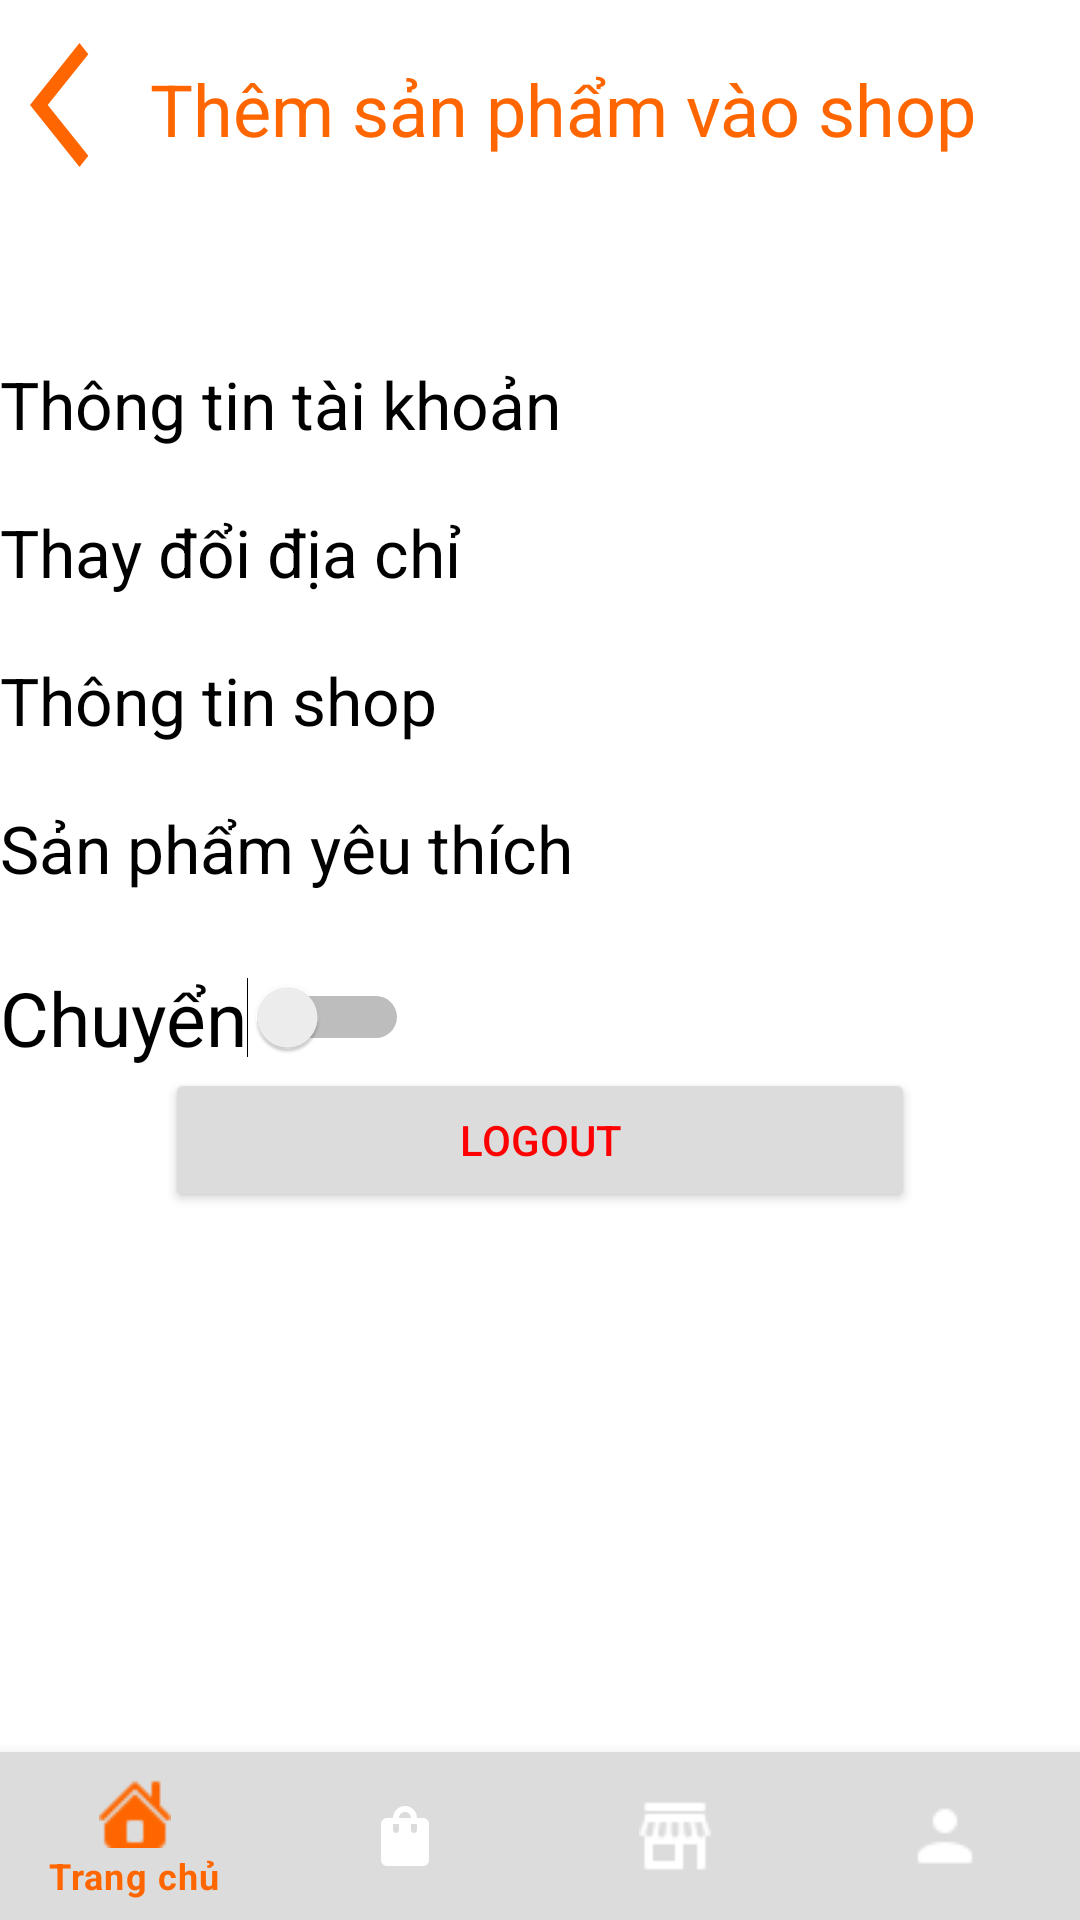

Screen size 1080 × 1920. Icon name, then its box in pixels as bbox=[x1, y1, x2, y2]:
back: bbox=[30, 43, 89, 167]
